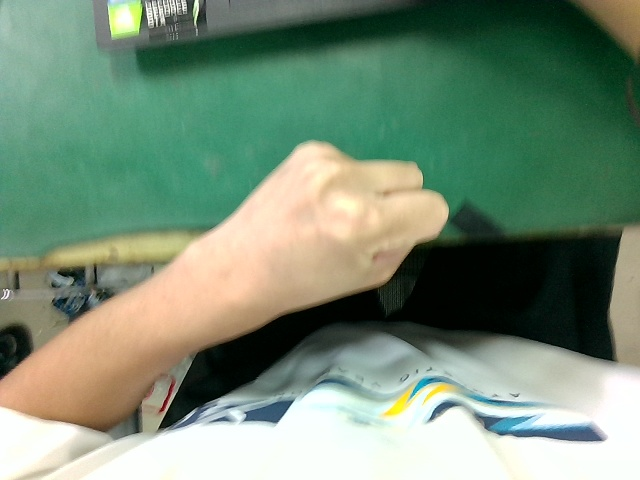stone: (196, 114, 463, 321)
